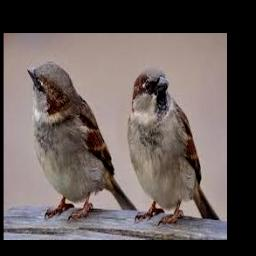Sparrow: (27, 62, 139, 220), (127, 66, 220, 225)
